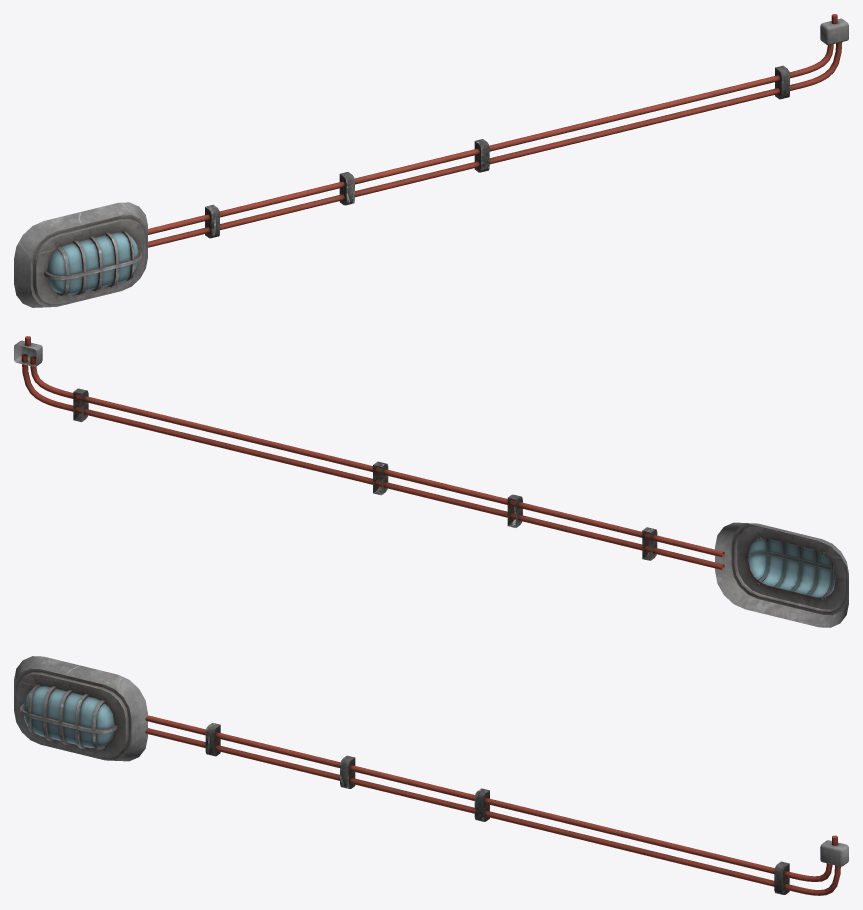
Rendered from Cables01_09.glb.
3 renders of one model, top to bottom at view 1: azimuth 30°, elevation 25°; view 2: azimuth 150°, elevation 25°; view 3: azimuth 330°, elevation 25°, orthographic.
Visible parts, largest first — view 1: NurbsPath, Plane_005; view 2: NurbsPath, Plane_005; view 3: NurbsPath, Plane_005.
Boxes of the visible parts, x1,y1,x2,y2 form: NurbsPath: (148, 14, 848, 247); Plane_005: (14, 202, 147, 307); NurbsPath: (14, 336, 724, 570); Plane_005: (715, 522, 848, 627); NurbsPath: (145, 715, 848, 895); Plane_005: (14, 656, 147, 761).
Size of the model in its own units: 1.54 by 0.174 by 0.0792.
1 material, 1 textured.
